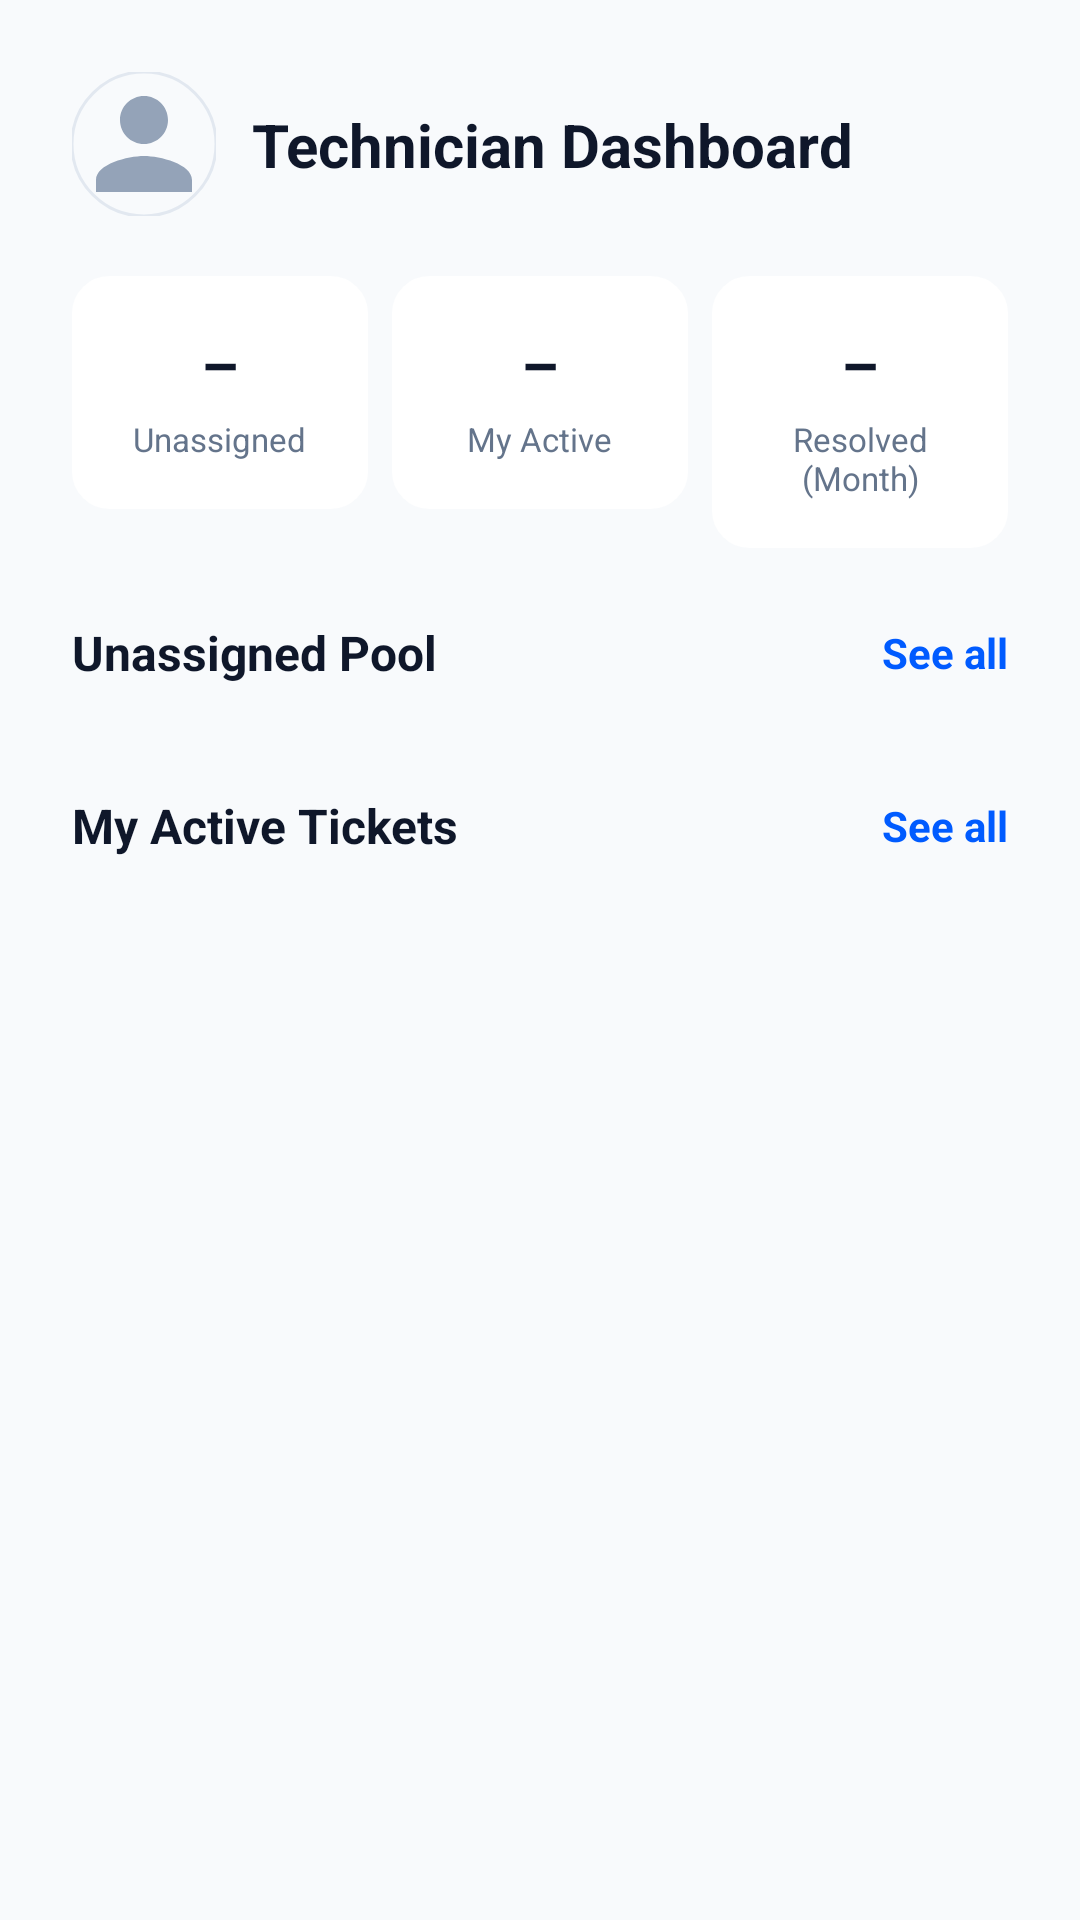

Icons on this 1080×1920 Android screen, each with its box as bbox=[x1, y1, x2, y2]:
profile: bbox=[96, 96, 192, 192]
